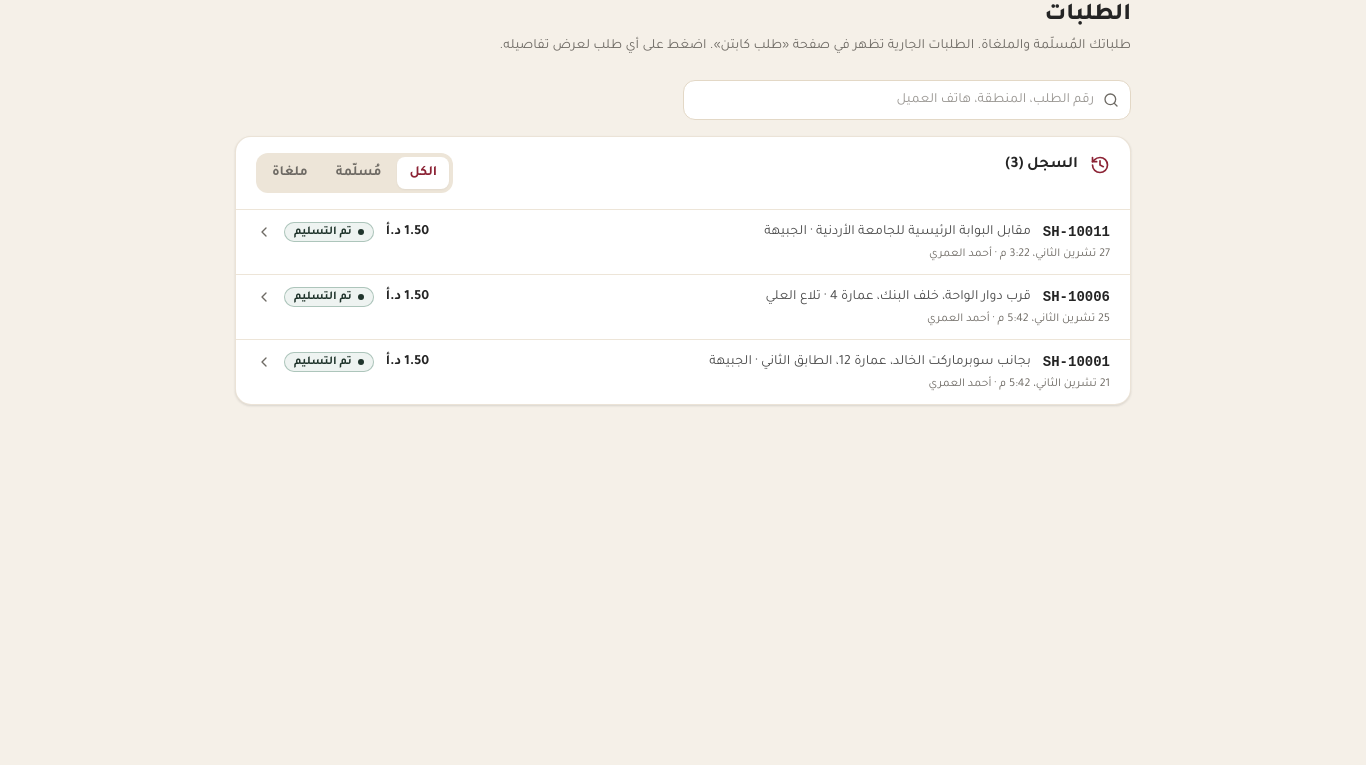
Test: merchant order history › each finished order opens its read-only details
The width and height of the screenshot is (1366, 765).
Click the button with aria-label "عرض تفاصيل الطلب SH-" at point(1076, 232), box [236,210,1130,274]
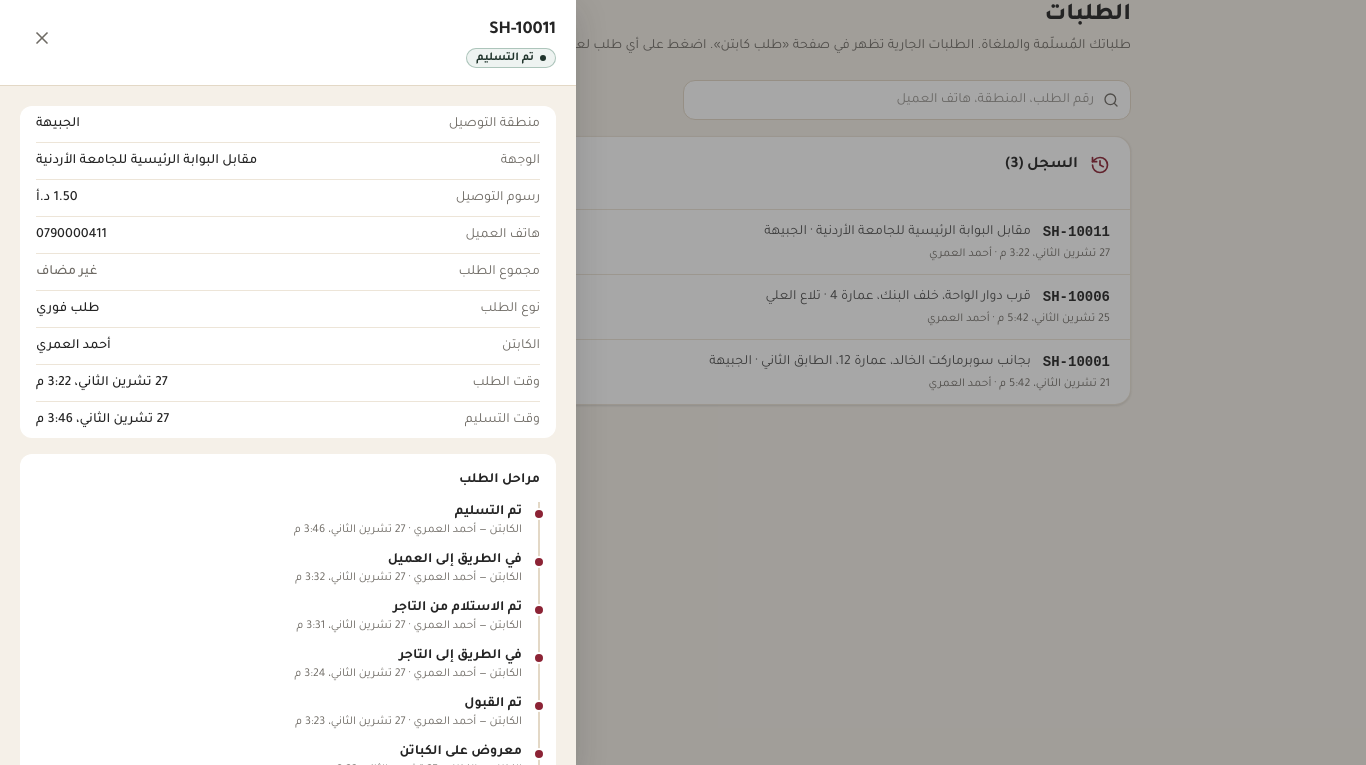
Now the text "رسوم التوصيل" is shown, box [456,188,540,208]
Now the heading "مراحل الطلب" is shown, box [459,473,540,487]
